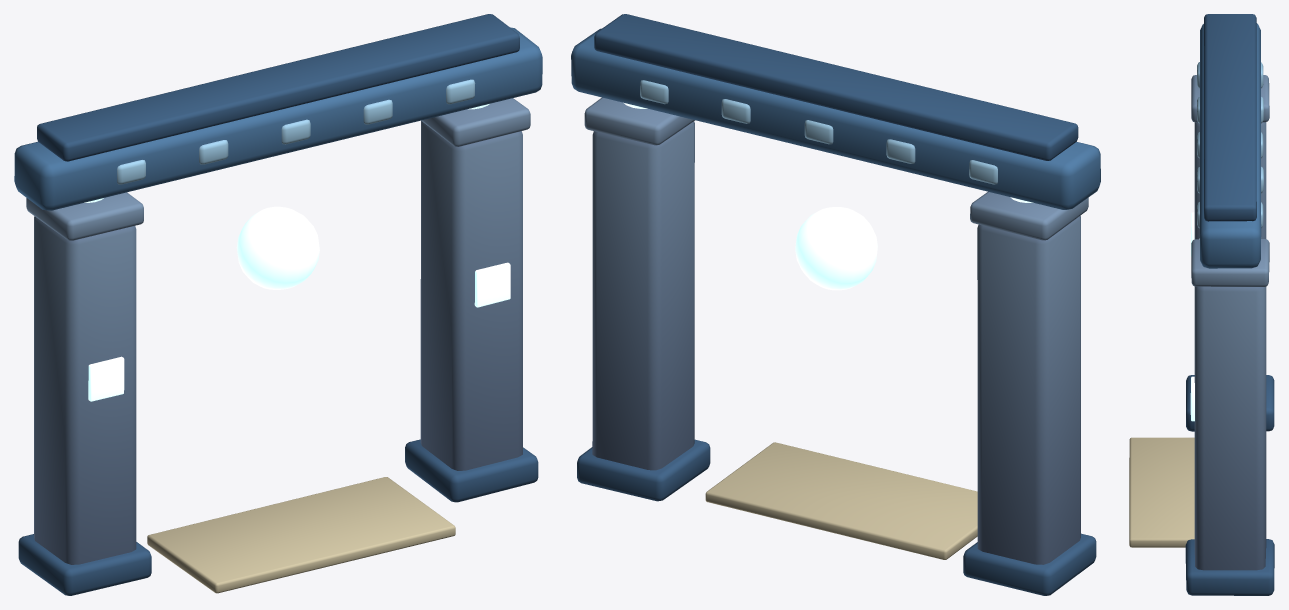
The picture shows the model from 3 angles, left to right: view 1: azimuth 30°, elevation 25°; view 2: azimuth 150°, elevation 25°; view 3: azimuth 270°, elevation 25°; orthographic projection. The views are drawn at different scales.
Parts seen in each view (by area): view 1: gate_68250fba; view 2: gate_68250fba; view 3: gate_68250fba.
Boxes of the visible parts, x1,y1,x2,y2 form: gate_68250fba: [14, 14, 542, 595]; gate_68250fba: [571, 14, 1100, 595]; gate_68250fba: [1129, 14, 1274, 595].
Size of the model in its own units: 5.01 by 4.24 by 1.44.
